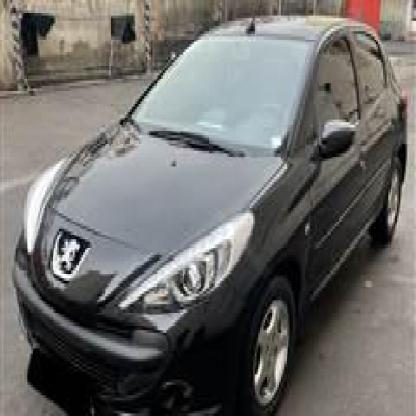car: (21, 19, 409, 414)
